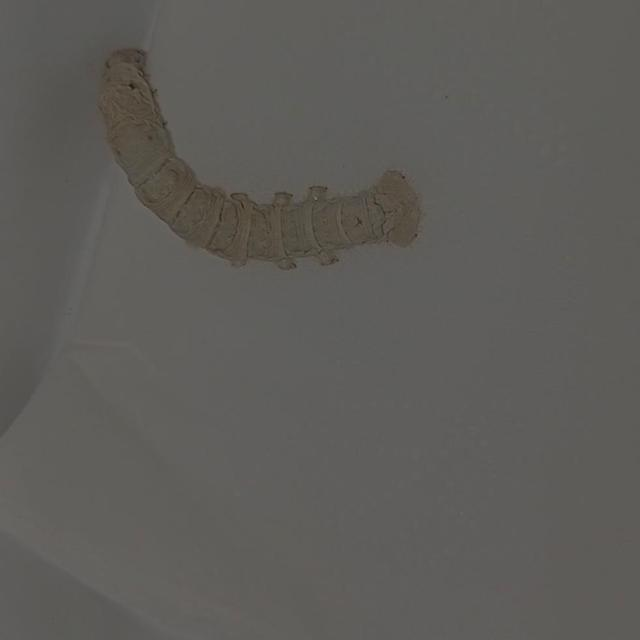Healthy: (70, 12, 462, 293)
